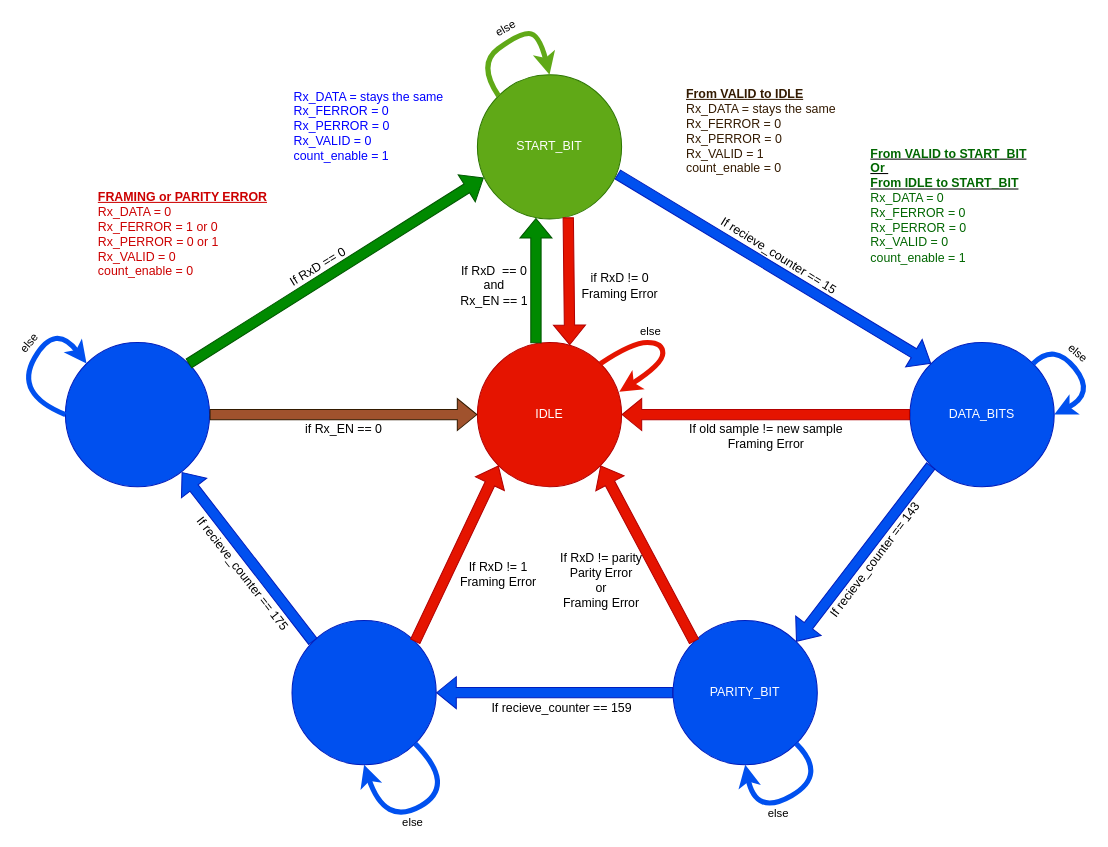
The diagram is 1108 pixels wide and 847 high, and some of its shapes have lost their labels. The centre of each missing label's shape, as x and y in pixels:
"STOP_BIT" belongs at point (363, 692).
"VALID" belongs at point (137, 414).
